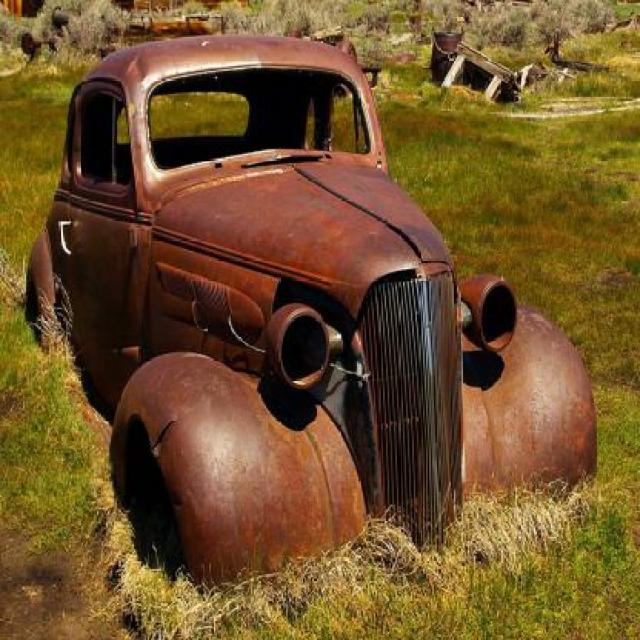corrosion: (25, 32, 602, 594)
